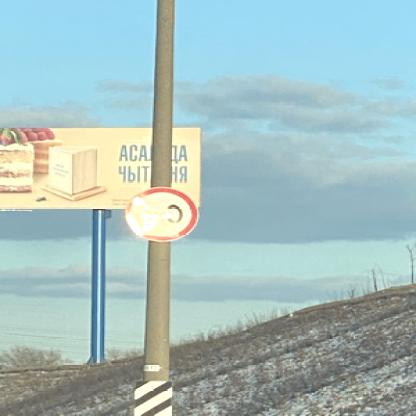speedlimit: (126, 186, 197, 239)
